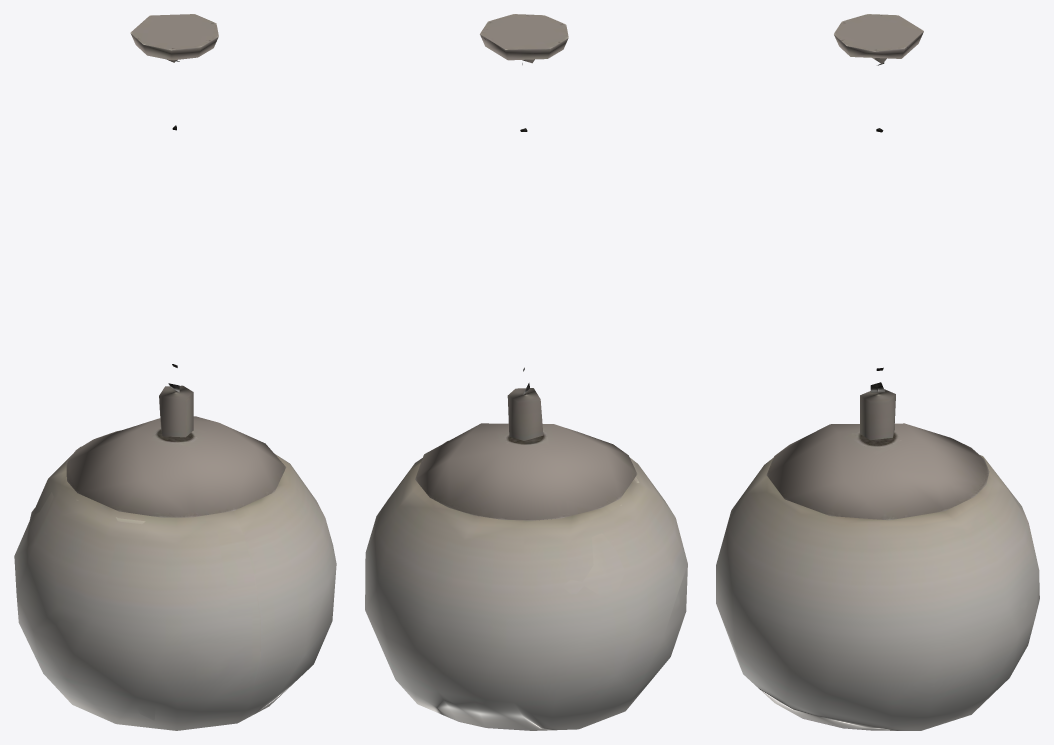
Rendered from modern_ceiling_lamp_01.glb.
3 renders of one model, left to right at view 1: azimuth 30°, elevation 25°; view 2: azimuth 150°, elevation 25°; view 3: azimuth 270°, elevation 25°, orthographic.
Parts seen in each view (by area): view 1: modern_ceiling_lamp_01; view 2: modern_ceiling_lamp_01; view 3: modern_ceiling_lamp_01.
Boxes of the visible parts, box(x1,y1,x2,y2) form: modern_ceiling_lamp_01: box(14, 14, 336, 730); modern_ceiling_lamp_01: box(365, 14, 687, 730); modern_ceiling_lamp_01: box(716, 14, 1039, 730).
Size of the model in its own units: 0.4279 by 0.9512 by 0.4279.
Materials: 2 (2 with a texture image).
